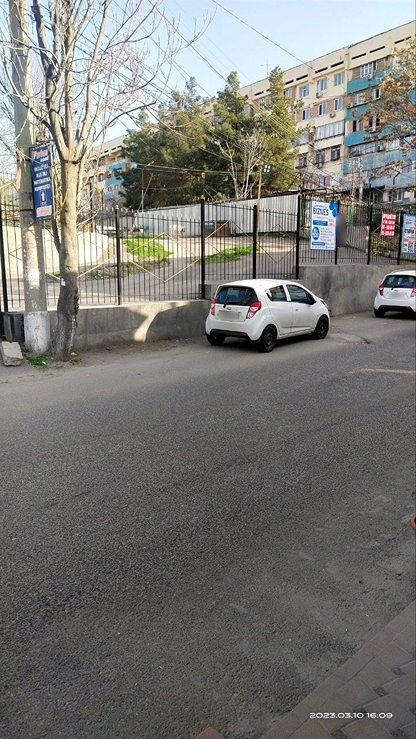car: (203, 267, 338, 353), (371, 271, 416, 319)
tree: (0, 0, 145, 358), (256, 71, 319, 188), (202, 71, 253, 184)
